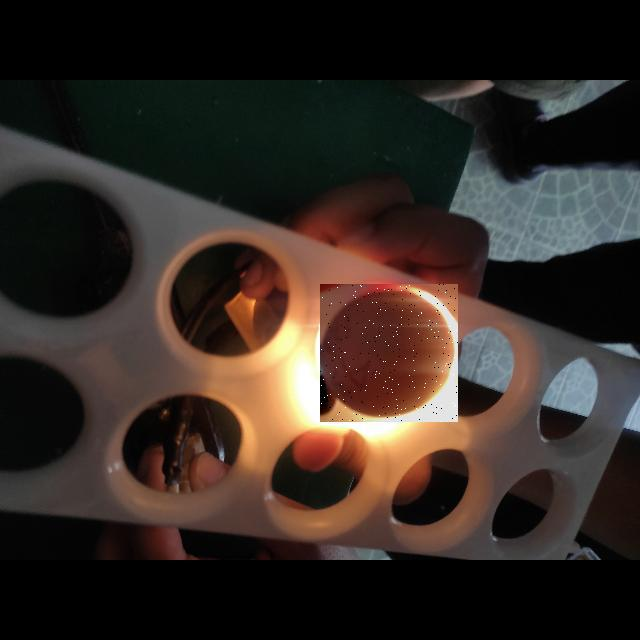Fertile: (320, 284, 458, 422)
